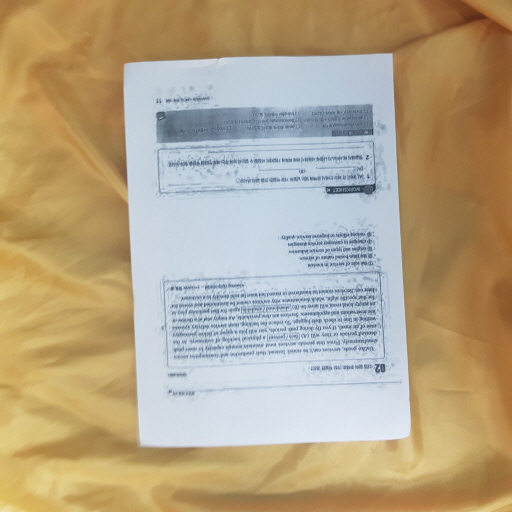Paper_2: (116, 52, 425, 455)
